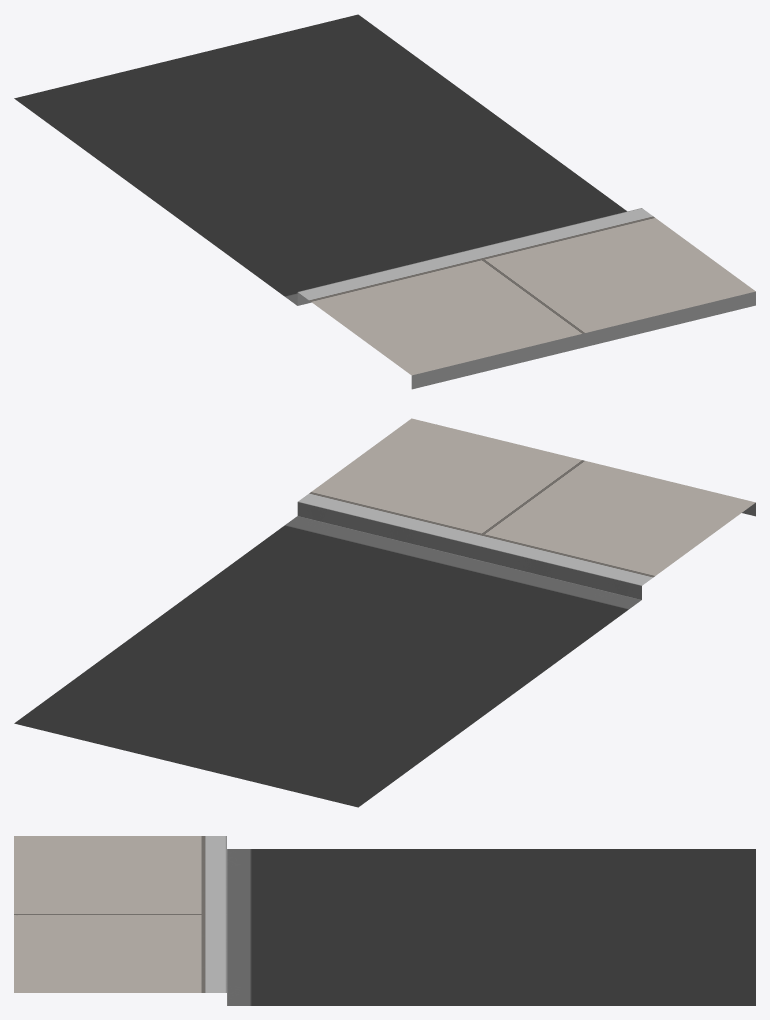
Rendered from road_straight_clear_mesh.fbx.
3 renders of one model, top to bottom at view 1: azimuth 30°, elevation 25°; view 2: azimuth 150°, elevation 25°; view 3: azimuth 270°, elevation 25°, orthographic. The views are drawn at different scales.
Visible parts, largest first — view 1: road_straight_clear_mesh; view 2: road_straight_clear_mesh; view 3: road_straight_clear_mesh.
Part boxes in pixels (bbox=[...]): road_straight_clear_mesh: bbox=[14, 14, 755, 389]; road_straight_clear_mesh: bbox=[14, 418, 755, 807]; road_straight_clear_mesh: bbox=[14, 836, 755, 1005].
Size of the model in its own units: 0.05 by 0.00195 by 0.1.
1 material, 1 textured.
